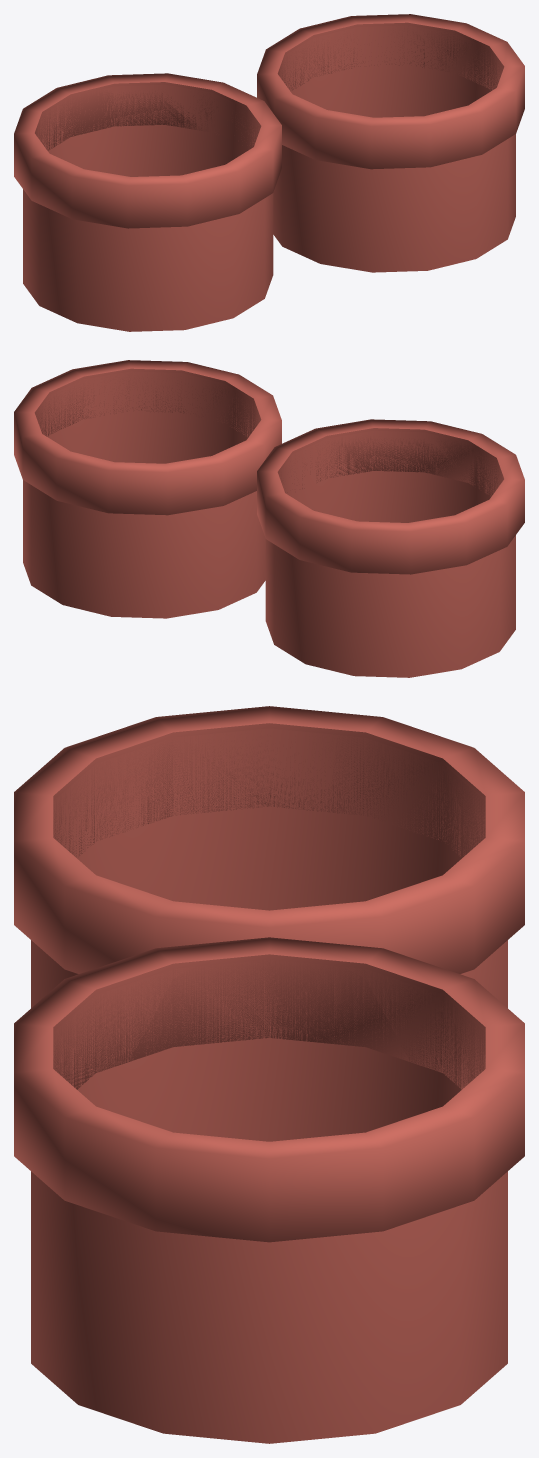
The model's file is puckered_socks.glb.
The picture shows the model from 3 angles, top to bottom: view 1: azimuth 30°, elevation 25°; view 2: azimuth 150°, elevation 25°; view 3: azimuth 270°, elevation 25°; orthographic projection. The views are drawn at different scales.
Parts seen in each view (by area): view 1: puckered_socks_LegL, puckered_socks_LegR; view 2: puckered_socks_LegL, puckered_socks_LegR; view 3: puckered_socks_LegR, puckered_socks_LegL.
Part boxes in pixels (x1,y1,x2,y2): puckered_socks_LegL: (14,73,281,331); puckered_socks_LegR: (257,14,524,272); puckered_socks_LegL: (257,419,524,677); puckered_socks_LegR: (14,360,281,618); puckered_socks_LegR: (14,937,524,1443); puckered_socks_LegL: (14,706,524,1007).
Size of the model in its own units: 0.372 by 0.112 by 0.1774.
